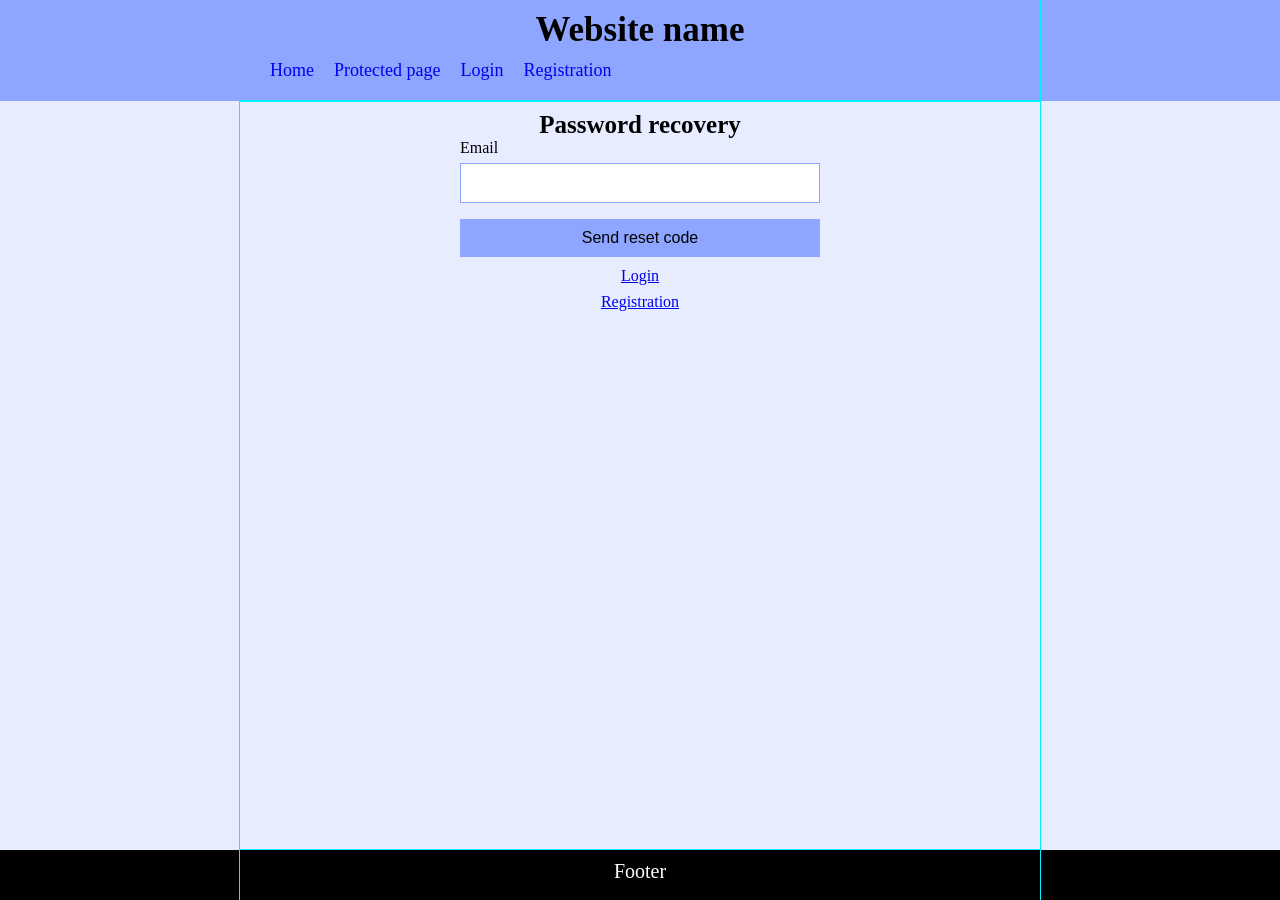
Test case: password recovery installs the new credentials before opening the profile
The width and height of the screenshot is (1280, 900).
Type "user@example.com" into the field labelled "Email".
click(640, 183); type("user@example.com")  # box [460,163,820,203]
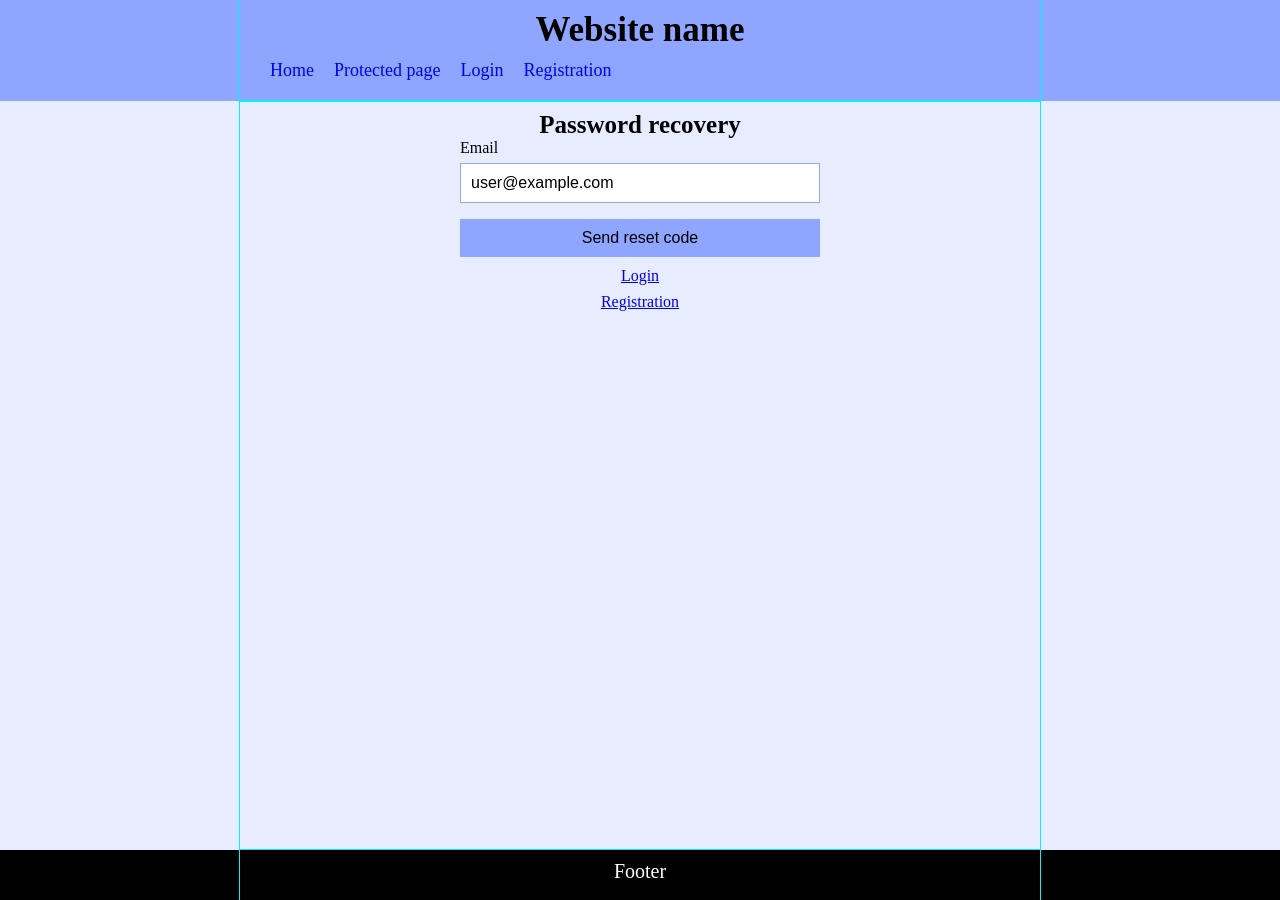
Submit the form, box [460,139,820,257]
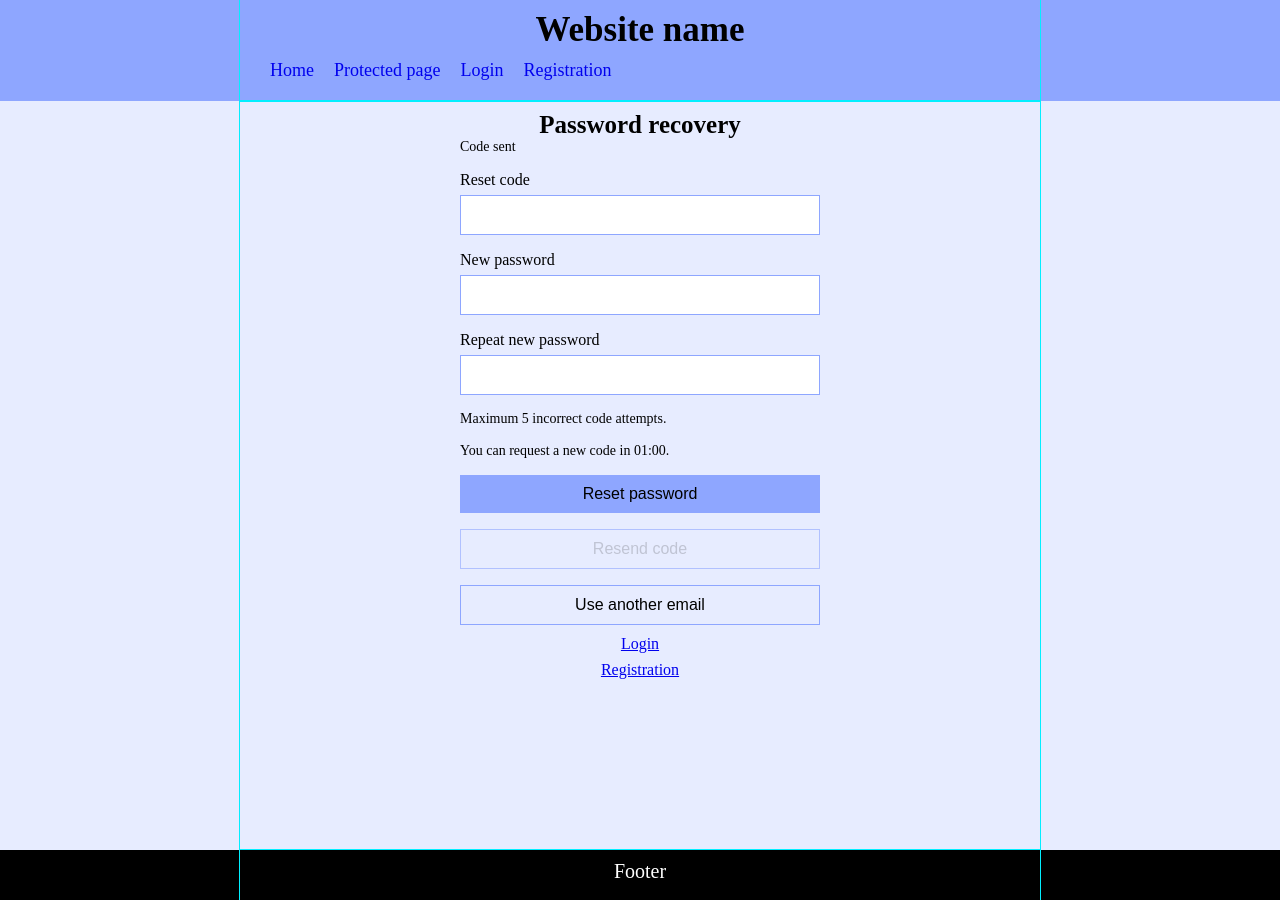
Result: the field labelled "Reset code" is shown
Type "123456" into the field labelled "Reset code".
click(640, 215); type("123456")  # box [460,195,820,235]
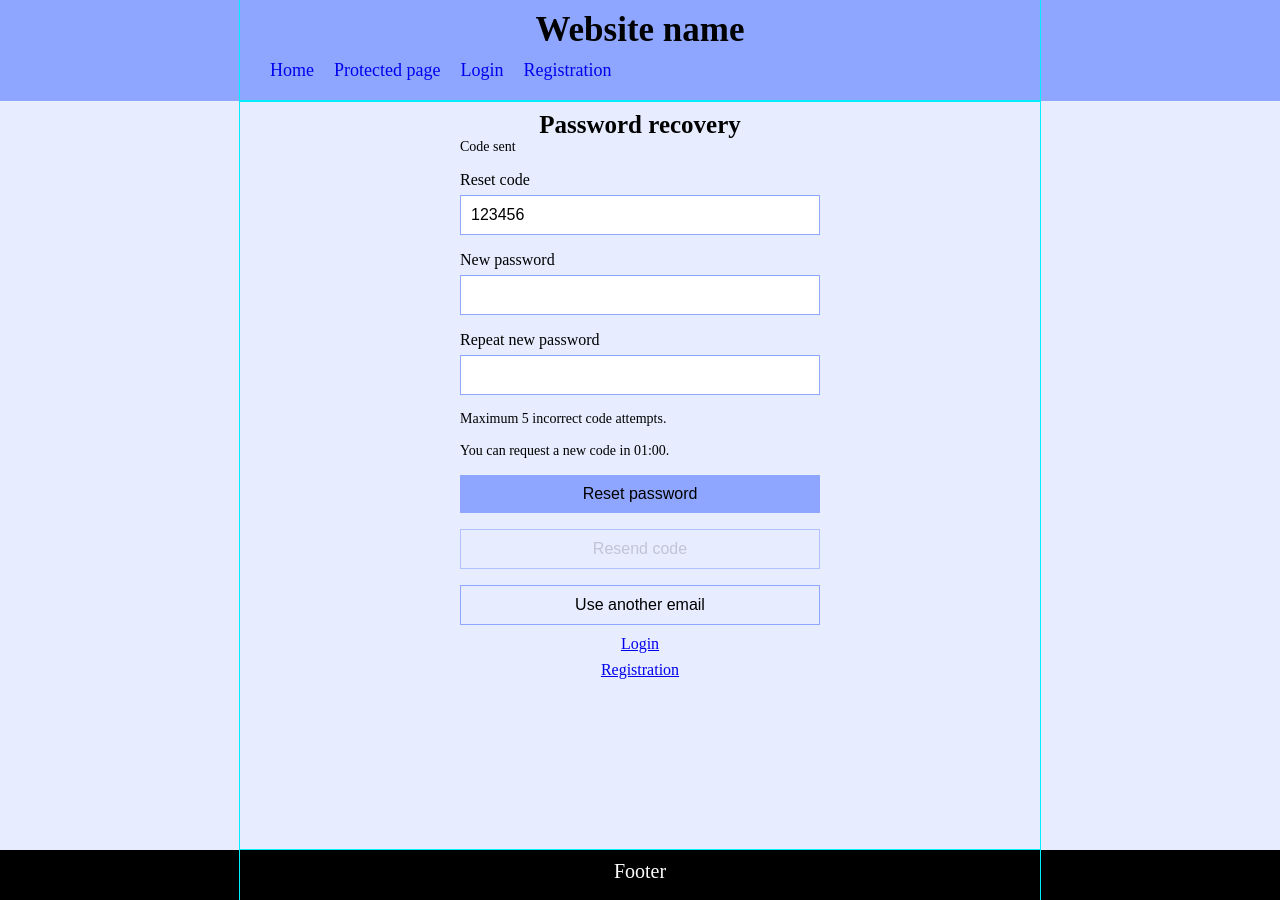
Type "new-password123" into the password field labelled "New password".
click(640, 295); type("new-password123")  # box [460,275,820,315]
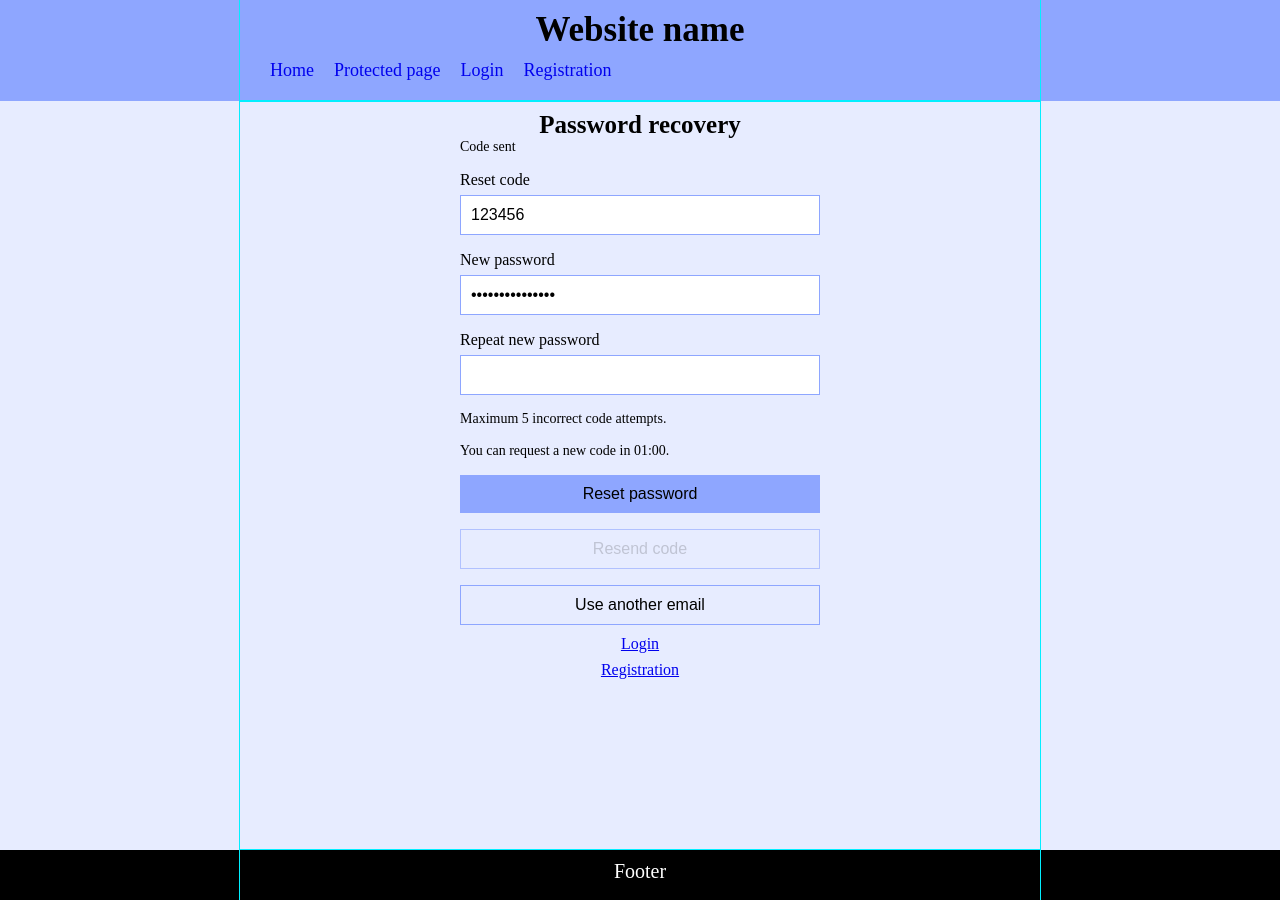
Type "new-password123" into the password field labelled "Repeat new password".
click(640, 375); type("new-password123")  # box [460,355,820,395]
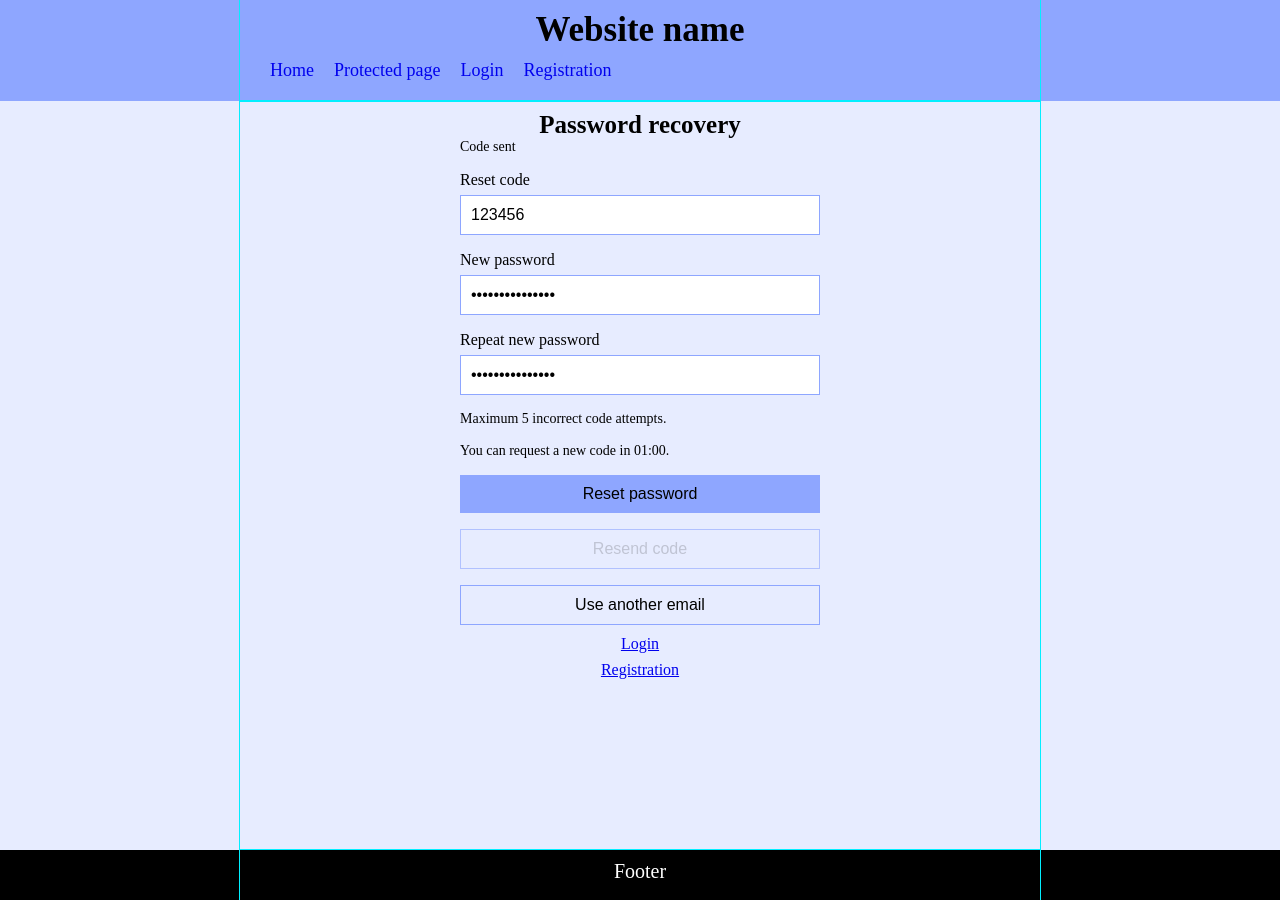
Submit the form, box [460,139,820,625]
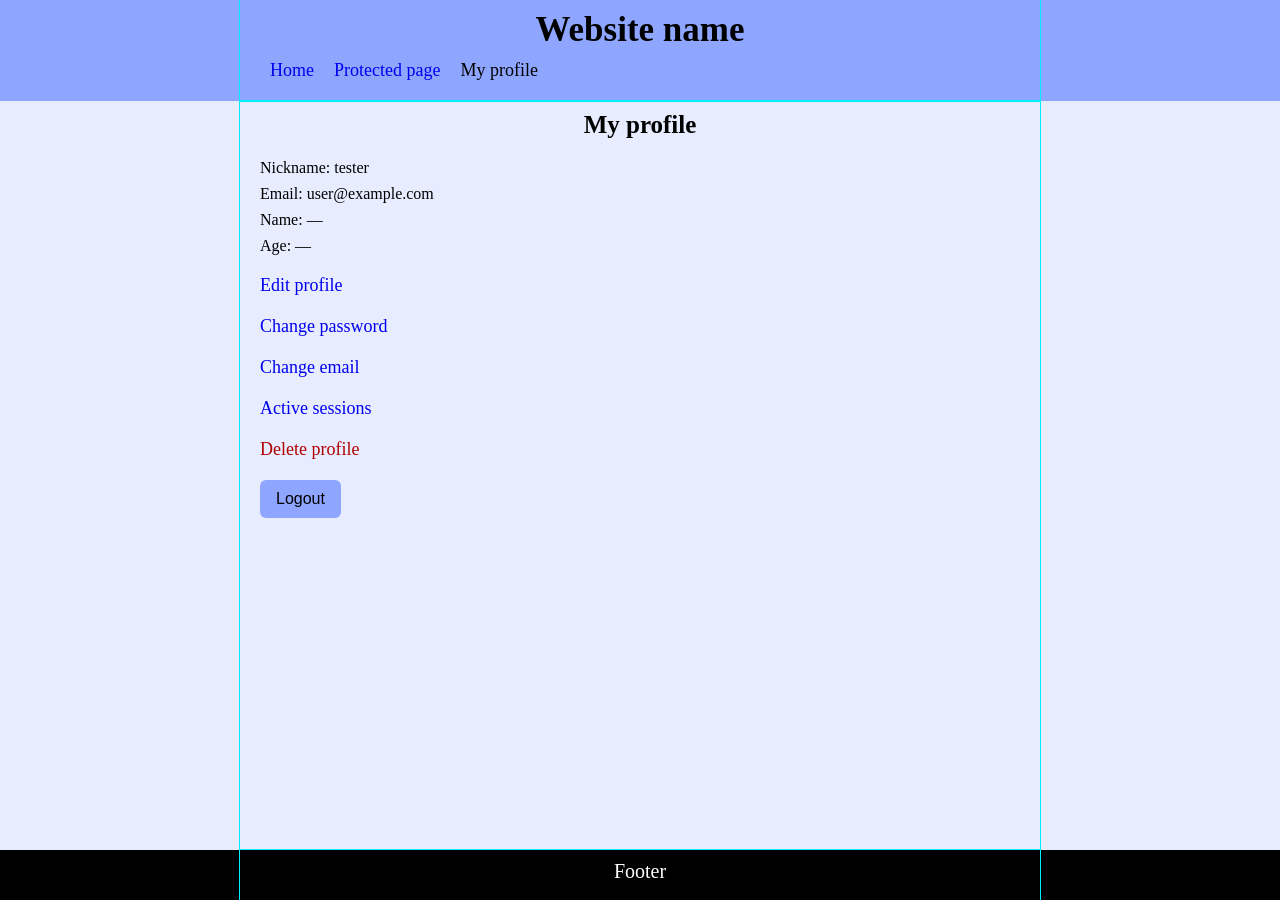
Result: the heading "My profile" is shown at [584,111,696,138]
